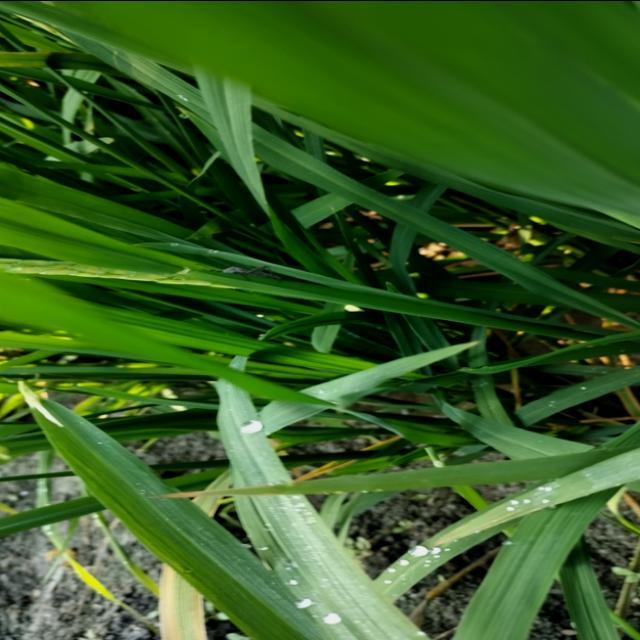Brown spot: (156, 561, 213, 640)
